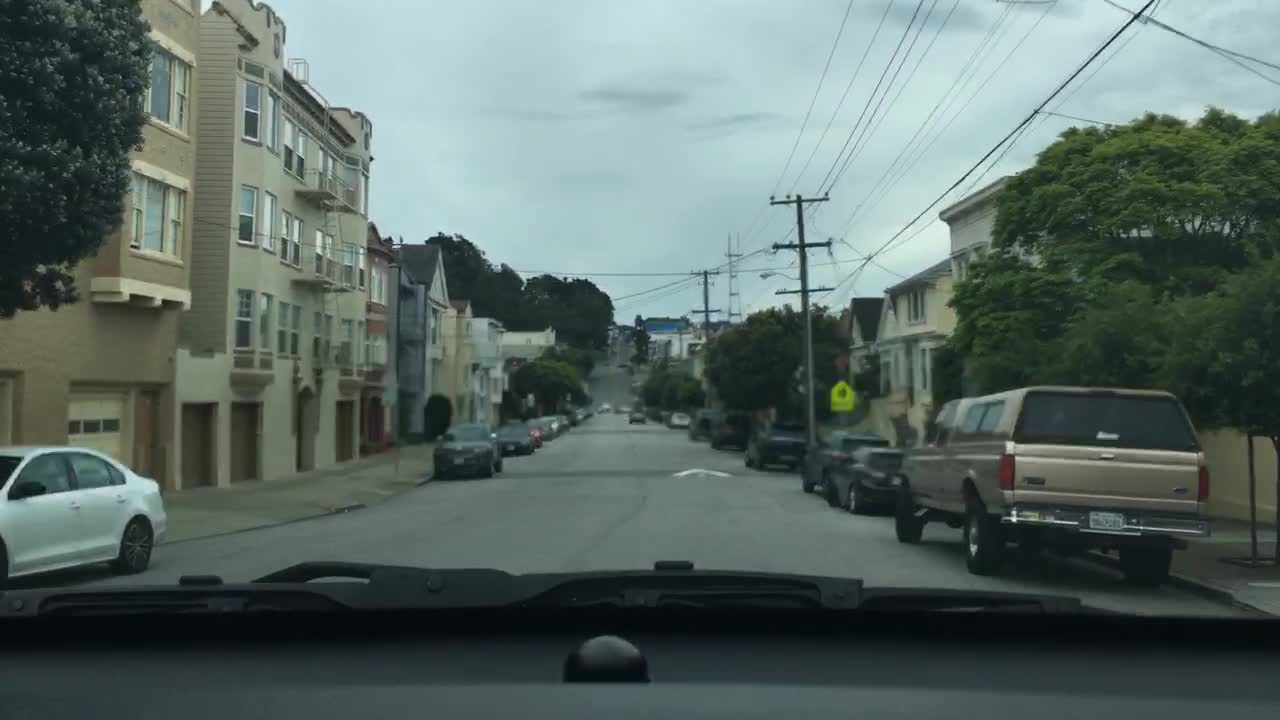car: (890, 381, 1212, 582), (0, 444, 167, 586), (800, 425, 908, 511), (427, 425, 502, 481), (738, 422, 808, 471), (709, 409, 758, 455), (689, 404, 730, 448), (490, 422, 534, 457), (525, 416, 555, 443), (667, 409, 691, 432), (653, 404, 672, 429), (527, 423, 546, 446), (544, 411, 567, 429), (560, 408, 576, 427), (628, 408, 646, 423), (576, 404, 595, 418), (593, 401, 604, 418), (572, 408, 581, 425)
traffic sign: (827, 381, 859, 411)
